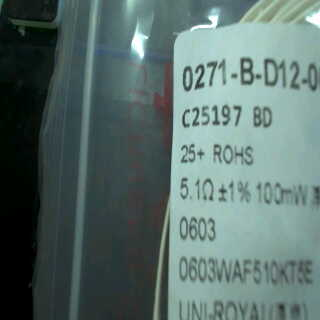5.1R: (175, 172, 213, 209)
